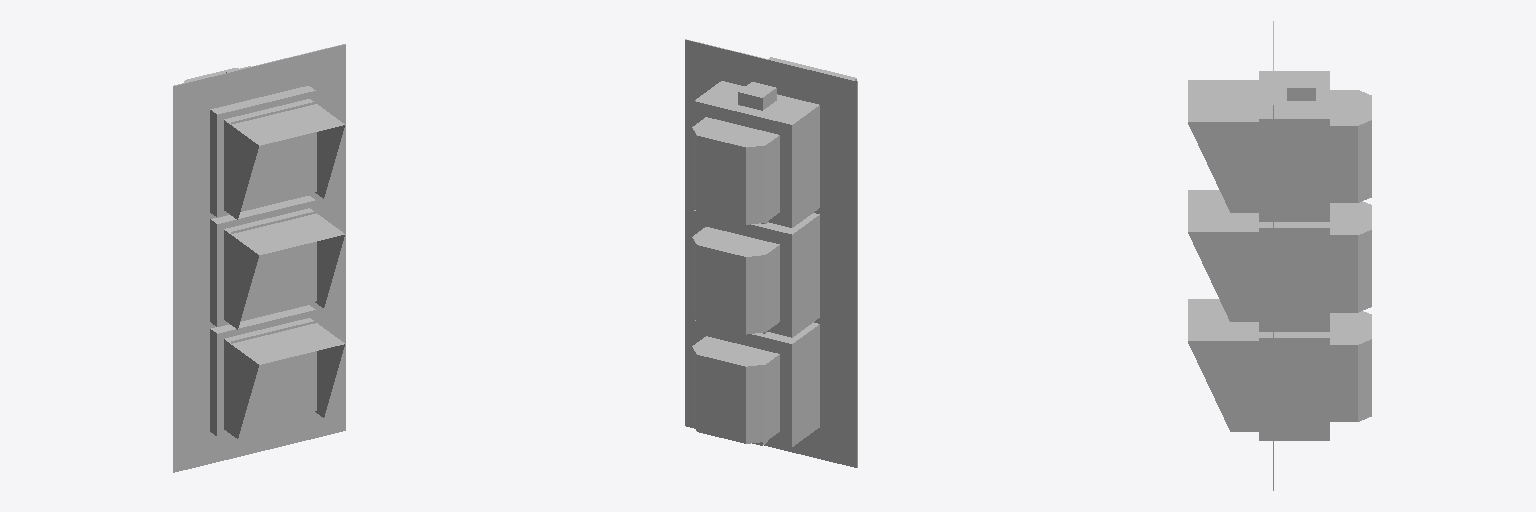
File: pole_trafficsignal.obj
3 renders of one model, left to right at view 1: azimuth 30°, elevation 25°; view 2: azimuth 150°, elevation 25°; view 3: azimuth 270°, elevation 25°, orthographic.
Visible parts, largest first — view 1: body, &stoplight, &golight, &cautionlight; view 2: body; view 3: body.
Part boxes in pixels (x1,y1,x2,y2): body: (173, 44, 345, 472); &stoplight: (231, 101, 316, 209); &golight: (231, 321, 316, 428); &cautionlight: (231, 211, 316, 319); body: (685, 39, 857, 467); body: (1188, 21, 1371, 490).
Bounding box in the file's own units: 0.7 × 1.5 × 0.65.